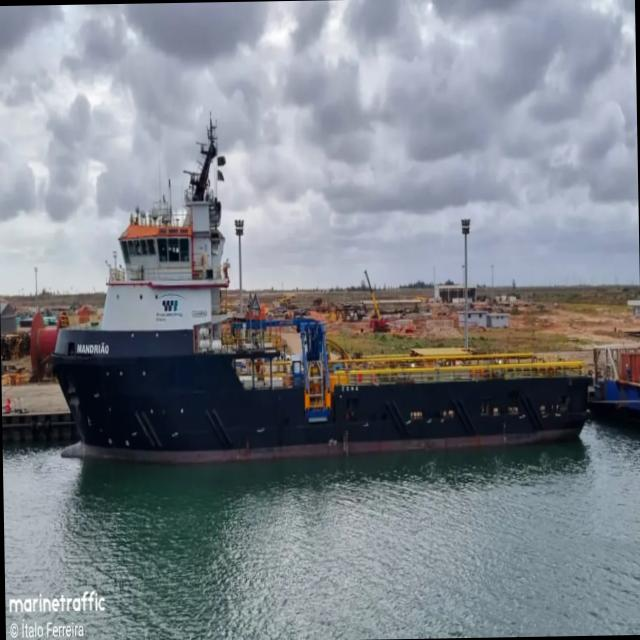Offshore: (31, 118, 588, 461)
